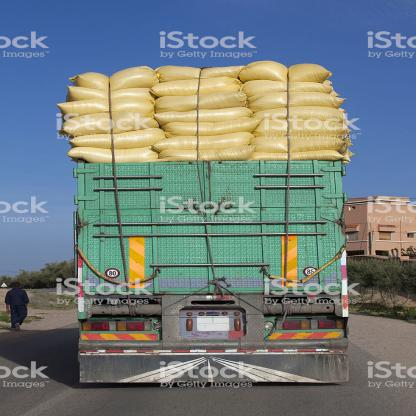overloaded-truck: (57, 67, 355, 395)
